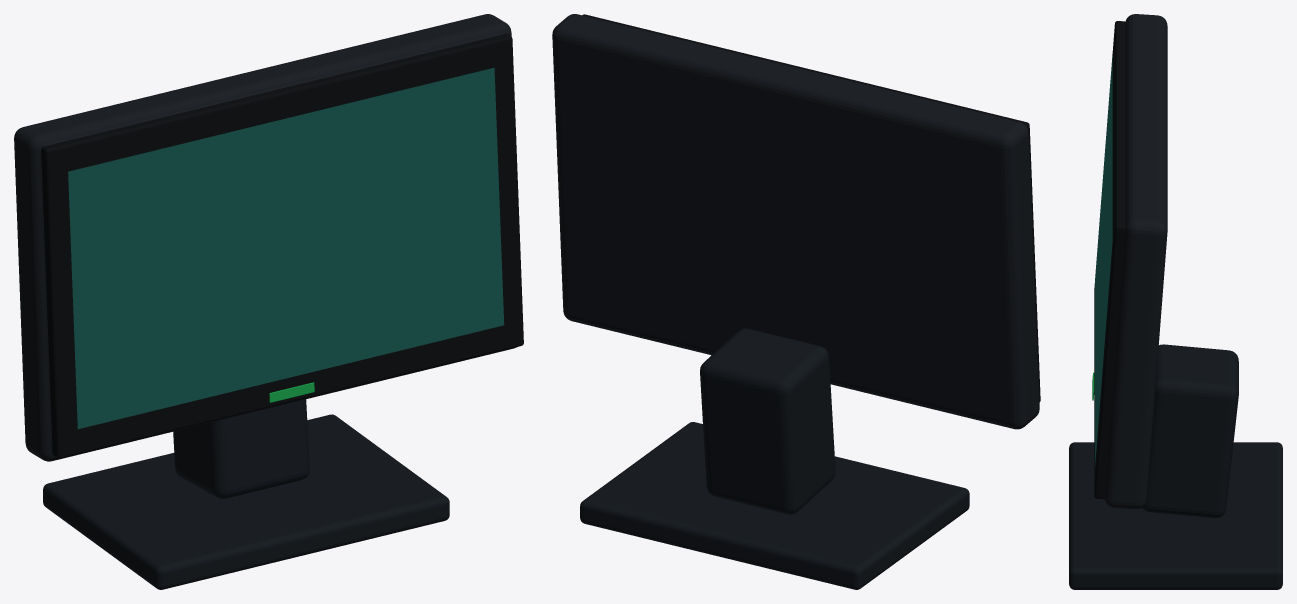
File: yokapos-terminal.glb
3 views of the same model, side by side, from view 1: azimuth 30°, elevation 25°; view 2: azimuth 150°, elevation 25°; view 3: azimuth 270°, elevation 25° (orthographic). The views are drawn at different scales.
Visible parts, largest first — view 1: Terminal_Screen, Terminal_Bezel, Terminal_Base, Terminal_Back, Terminal_Stand, Terminal_Body; view 2: Terminal_Back, Terminal_Base, Terminal_Stand, Terminal_Bezel; view 3: Terminal_Base, Terminal_Back, Terminal_Stand, Terminal_Bezel, Terminal_Screen, Terminal_Body.
Part boxes in pixels (x1,y1,x2,y2): Terminal_Screen: [68, 67, 504, 429]; Terminal_Bezel: [41, 34, 523, 458]; Terminal_Base: [43, 414, 449, 589]; Terminal_Back: [14, 14, 516, 461]; Terminal_Stand: [173, 399, 309, 498]; Terminal_Body: [39, 33, 505, 453]; Terminal_Back: [552, 14, 1039, 429]; Terminal_Base: [580, 422, 969, 589]; Terminal_Stand: [700, 328, 835, 514]; Terminal_Bezel: [582, 14, 1040, 401]; Terminal_Base: [1069, 442, 1282, 589]; Terminal_Back: [1104, 14, 1167, 509]; Terminal_Stand: [1142, 344, 1238, 518]; Terminal_Bezel: [1094, 21, 1125, 499]; Terminal_Screen: [1095, 54, 1112, 466]; Terminal_Body: [1104, 22, 1125, 497].
Size of the model in its own units: 0.378 by 0.3383 by 0.16.
